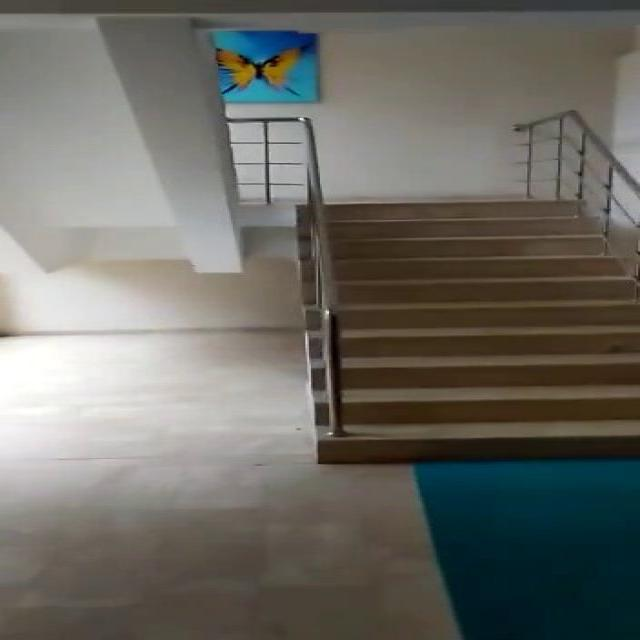stairs: (304, 197, 638, 460)
